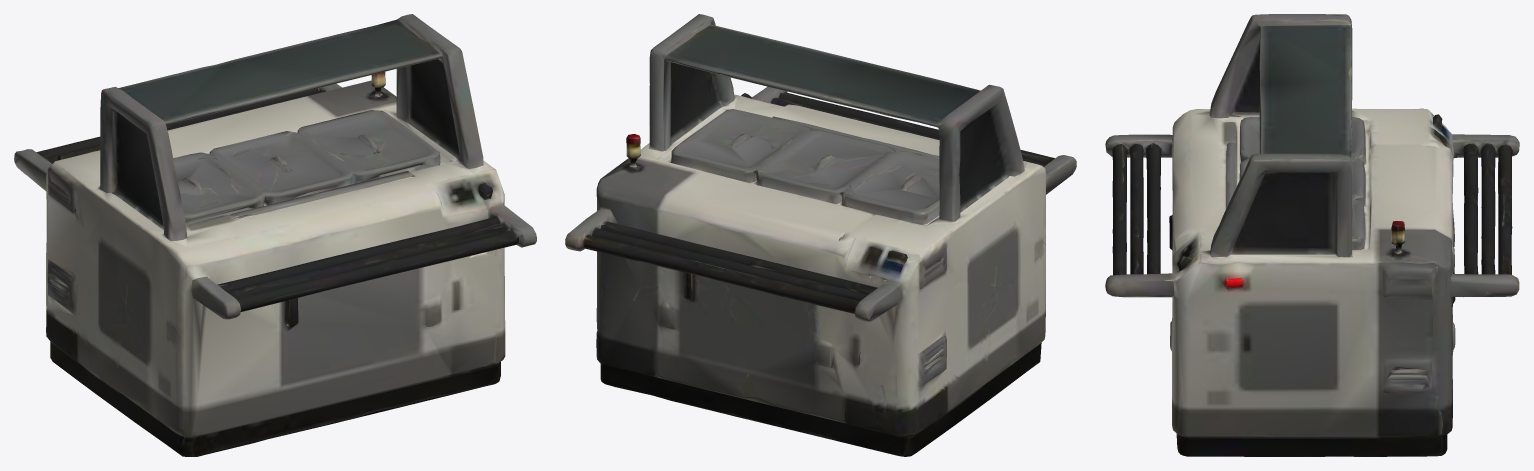
The model's file is serving_counter.glb.
3 renders of one model, left to right at view 1: azimuth 30°, elevation 25°; view 2: azimuth 150°, elevation 25°; view 3: azimuth 270°, elevation 25°, orthographic. The views are drawn at different scales.
Parts seen in each view (by area): view 1: geometry_0; view 2: geometry_0; view 3: geometry_0.
Part boxes in pixels (bbox=[...]): geometry_0: bbox=[14, 14, 536, 456]; geometry_0: bbox=[565, 14, 1076, 456]; geometry_0: bbox=[1105, 14, 1519, 456].
Size of the model in its own units: 0.9017 by 0.7879 by 0.9981.
Materials: 1 (1 with a texture image).
